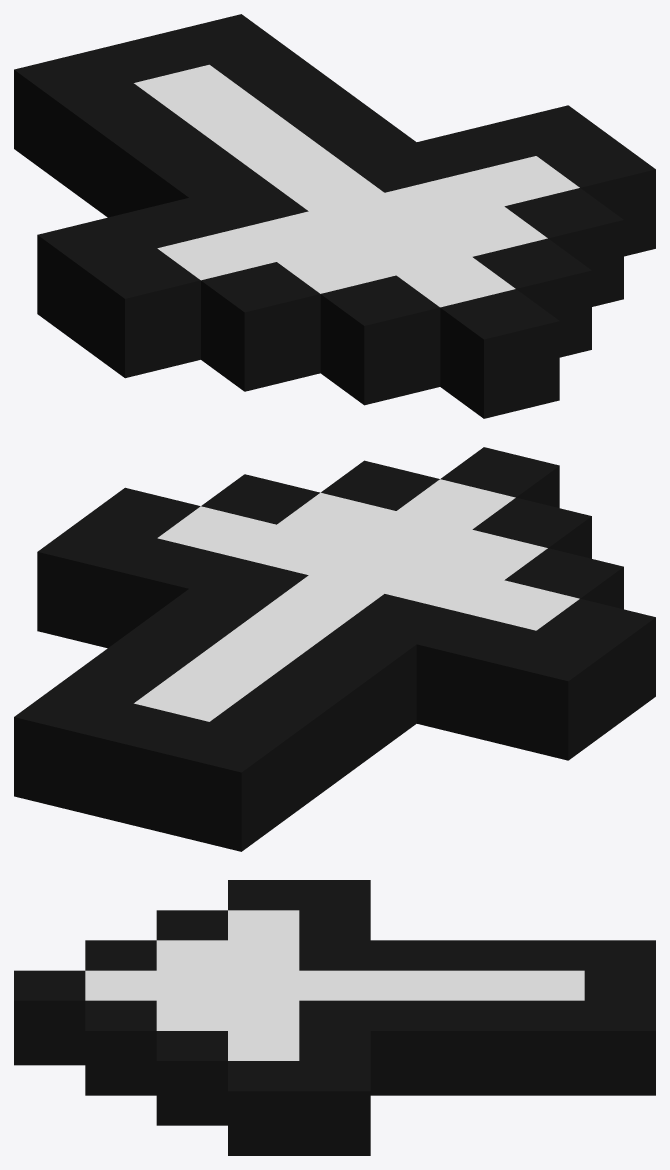
File: arrow.obj
3 views of the same model, one above another, from view 1: azimuth 30°, elevation 25°; view 2: azimuth 150°, elevation 25°; view 3: azimuth 270°, elevation 25° (orthographic). The views are drawn at different scales.
Size of the model in its own units: 7 by 1 by 9.
1 material, 1 textured.
